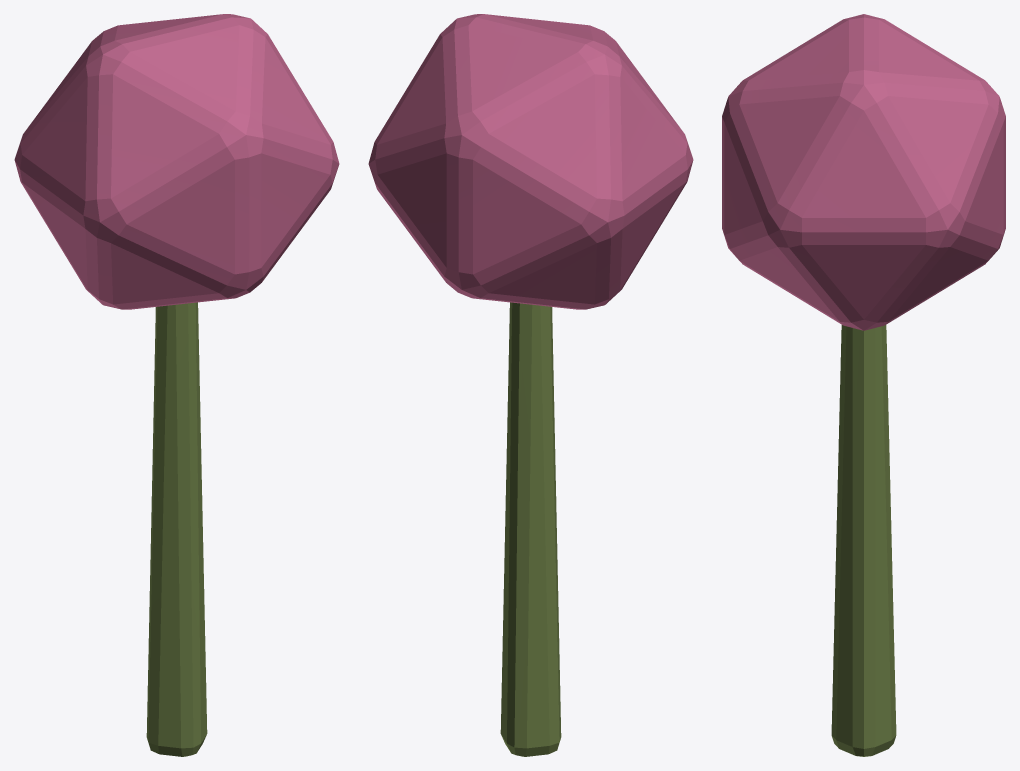
The model's file is prop_flower.glb.
3 renders of one model, left to right at view 1: azimuth 30°, elevation 25°; view 2: azimuth 150°, elevation 25°; view 3: azimuth 270°, elevation 25°, orthographic.
Visible parts, largest first — view 1: prop_flower_part_0; view 2: prop_flower_part_0; view 3: prop_flower_part_0.
Part boxes in pixels (x1,y1,x2,y2): prop_flower_part_0: (14, 14, 339, 756); prop_flower_part_0: (368, 14, 693, 756); prop_flower_part_0: (722, 14, 1005, 756).
Size of the model in its own units: 0.2161 by 0.593 by 0.2161.
